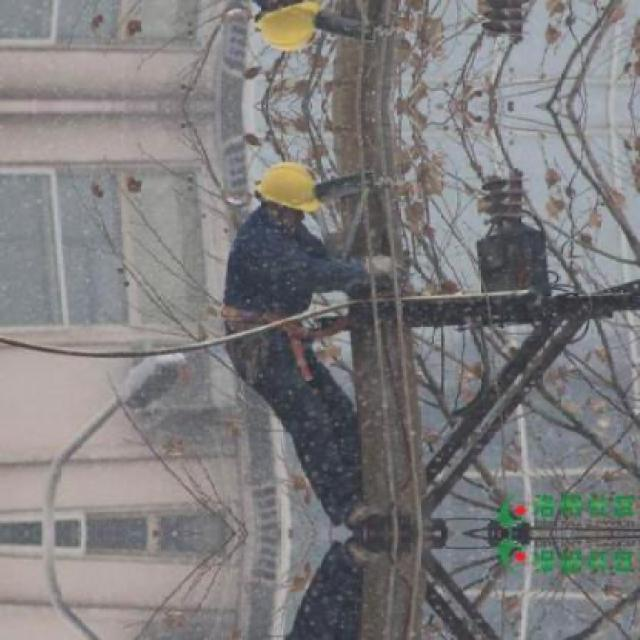helmet: (249, 157, 320, 224), (249, 0, 322, 57)
